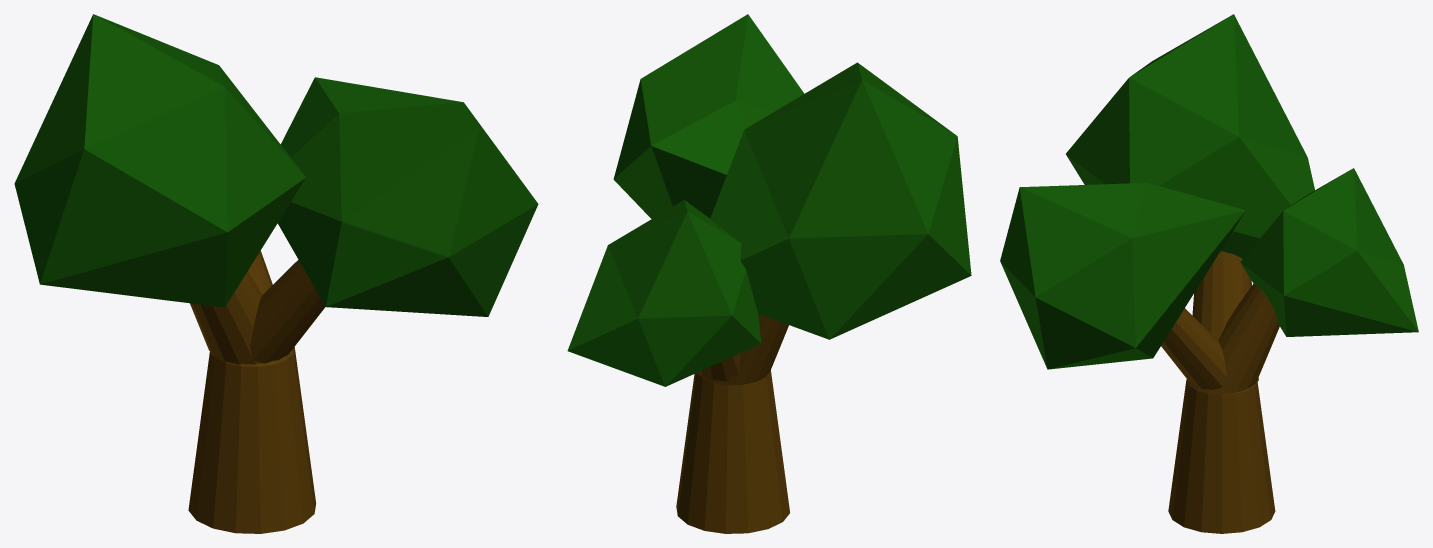
The model's file is Tree 1 (fixed).fbx.
3 views of the same model, side by side, from view 1: azimuth 30°, elevation 25°; view 2: azimuth 150°, elevation 25°; view 3: azimuth 270°, elevation 25° (orthographic). The views are drawn at different scales.
Visible parts, largest first — view 1: Tree 1; view 2: Tree 1; view 3: Tree 1.
Part boxes in pixels (bbox=[...]): Tree 1: bbox=[14, 14, 538, 533]; Tree 1: bbox=[567, 14, 971, 533]; Tree 1: bbox=[1000, 14, 1418, 533].
Bounding box in the file's own units: 575 × 589 × 677.
